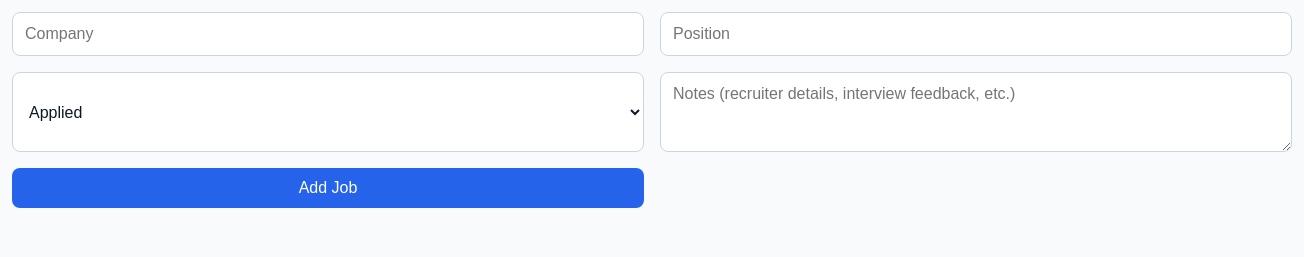
Test: JobForm › should show an error when company is empty
Step 1. Type "Frontend Developer" into the field with placeholder "Position" → (976,34), box [660,12,1292,56]
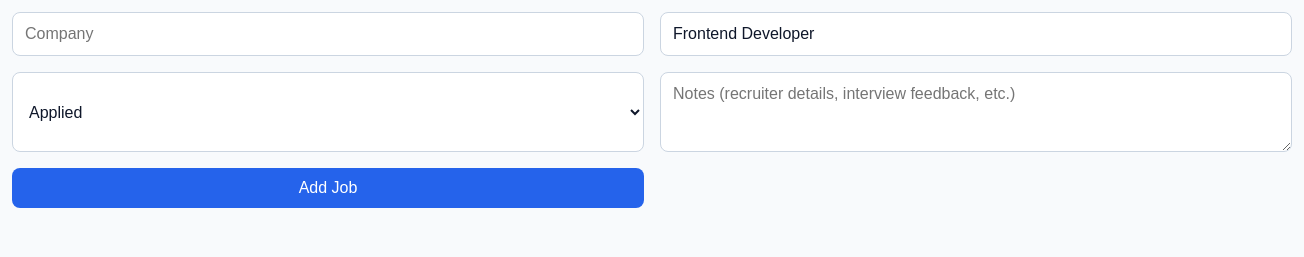
Step 2. Click the button "Add Job" → (328,188), box [12,168,644,208]
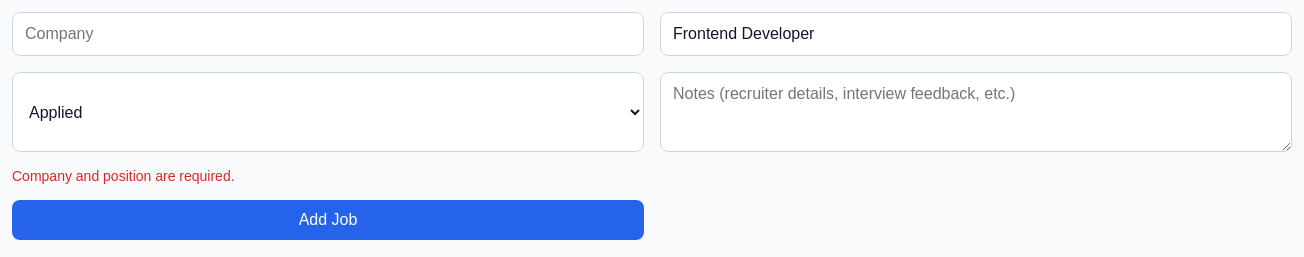
Now the text "Company and position are required." is shown, box [12,168,235,184]
